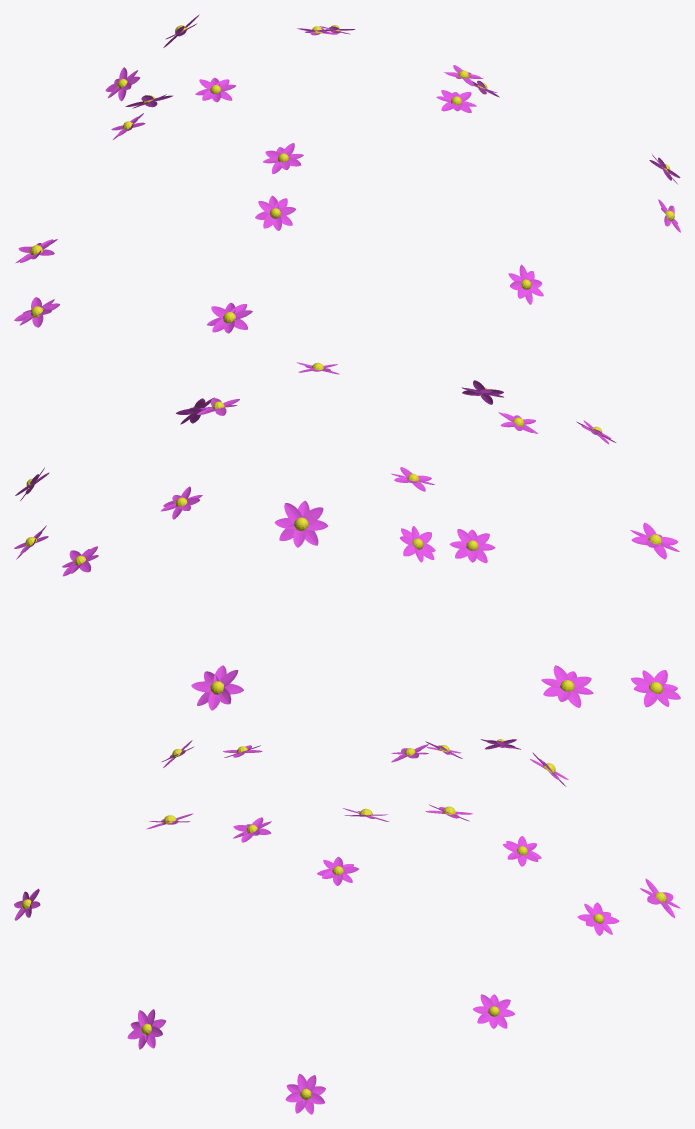
The model's file is เดซี่ชมพู.fbx.
3 renders of one model, top to bottom at view 1: azimuth 30°, elevation 25°; view 2: azimuth 150°, elevation 25°; view 3: azimuth 270°, elevation 25°, orthographic. The views are drawn at different scales.
Visible parts, largest first — view 1: ระนาบ.016, ระนาบ.005, ระนาบ.001, ระนาบ.008, ระนาบ.007, ระนาบ.018, ระนาบ.012; view 2: ระนาบ.014, ระนาบ.017, ระนาบ.015, ระนาบ.018, ระนาบ.004, ระนาบ.011, ระนาบ.016; view 3: ระนาบ.002, ระนาบ.010, ระนาบ.009, ระนาบ.003, ระนาบ.006, ระนาบ.013.
Part boxes in pixels (box(x1,y1,x2,y2)): ระนาบ.016: box(206, 302, 252, 333); ระนาบ.005: box(255, 195, 295, 230); ระนาบ.001: box(508, 264, 543, 304); ระนาบ.008: box(263, 143, 303, 173); ระนาบ.007: box(195, 77, 235, 102); ระนาบ.018: box(14, 297, 59, 327); ระนาบ.012: box(436, 90, 476, 112); ระนาบ.014: box(274, 500, 327, 547); ระนาบ.017: box(191, 665, 243, 710); ระนาบ.015: box(541, 665, 593, 707); ระนาบ.018: box(630, 670, 680, 707); ระนาบ.004: box(449, 529, 495, 563); ระนาบ.011: box(400, 526, 435, 562); ระนาบ.016: box(630, 522, 679, 559); ระนาบ.002: box(285, 1073, 325, 1114); ระนาบ.010: box(473, 994, 514, 1028); ระนาบ.009: box(127, 1009, 165, 1049); ระนาบ.003: box(577, 902, 619, 935); ระนาบ.006: box(317, 856, 358, 885); ระนาบ.013: box(502, 836, 541, 866).
Size of the model in its own units: 237 by 65.35 by 213.
